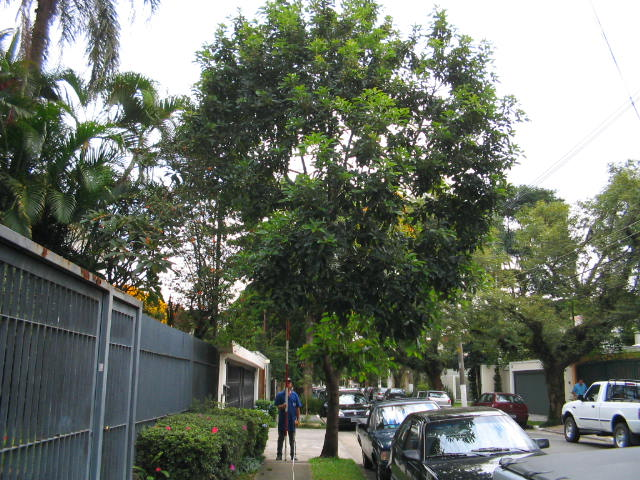crown: (187, 3, 530, 357)
stem: (313, 378, 347, 460)
stick: (279, 316, 292, 462)
tree: (184, 2, 530, 462)
